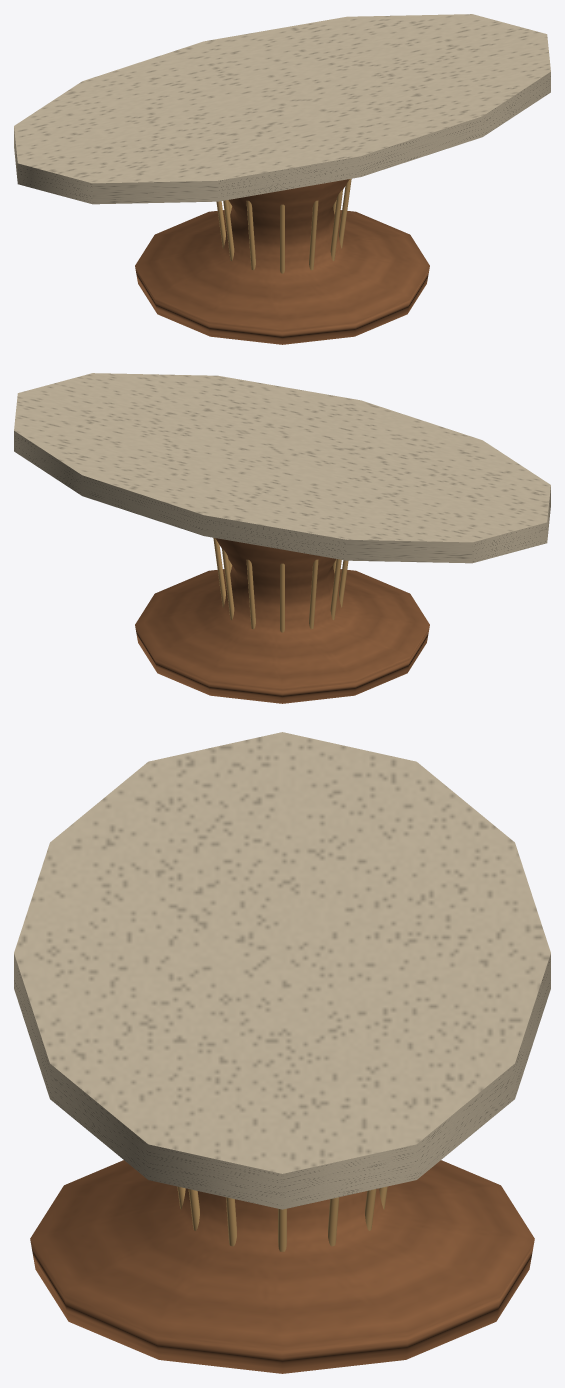
Rendered from coffee_table_arcade-f4541b7b23ab.glb.
3 views of the same model, one above another, from view 1: azimuth 30°, elevation 25°; view 2: azimuth 150°, elevation 25°; view 3: azimuth 270°, elevation 25° (orthographic). The views are drawn at different scales.
Parts seen in each view (by area): view 1: surface_terrazzo, surface_walnut, surface_brass; view 2: surface_terrazzo, surface_walnut, surface_brass; view 3: surface_terrazzo, surface_walnut, surface_brass.
Boxes of the visible parts, x1,y1,x2,y2 form: surface_terrazzo: (14,14,550,204); surface_walnut: (135,179,429,344); surface_brass: (216,178,351,273); surface_terrazzo: (14,373,550,563); surface_walnut: (135,538,429,703); surface_brass: (213,537,348,632); surface_terrazzo: (14,732,550,1209); surface_walnut: (30,1160,534,1373); surface_brass: (177,1186,387,1251).
Size of the model in its own units: 1.17 by 0.39 by 0.5996.
3 materials, 2 textured.
